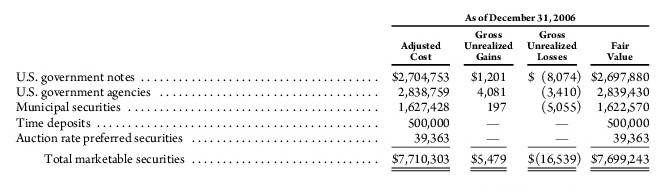table: (0, 0, 667, 192)
